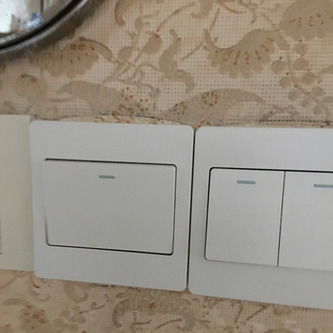switch: (38, 152, 180, 261), (202, 155, 285, 271), (272, 165, 333, 273)
